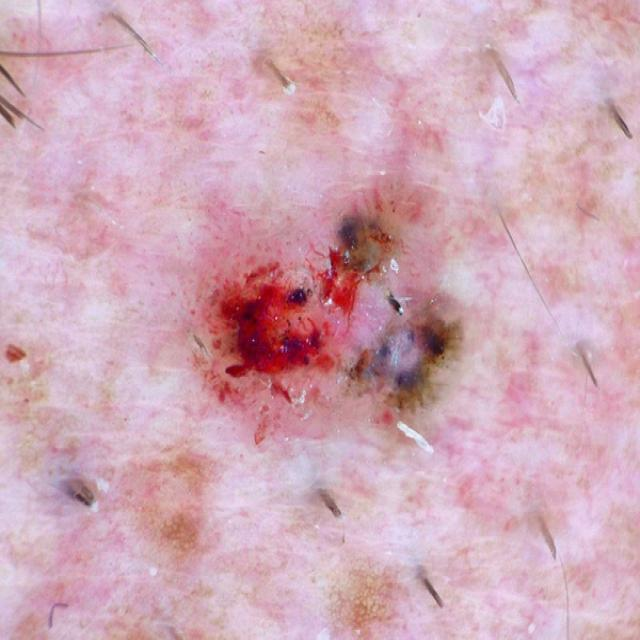Basal-Cell-Carcinoma-BCC-: (48, 78, 568, 565)
